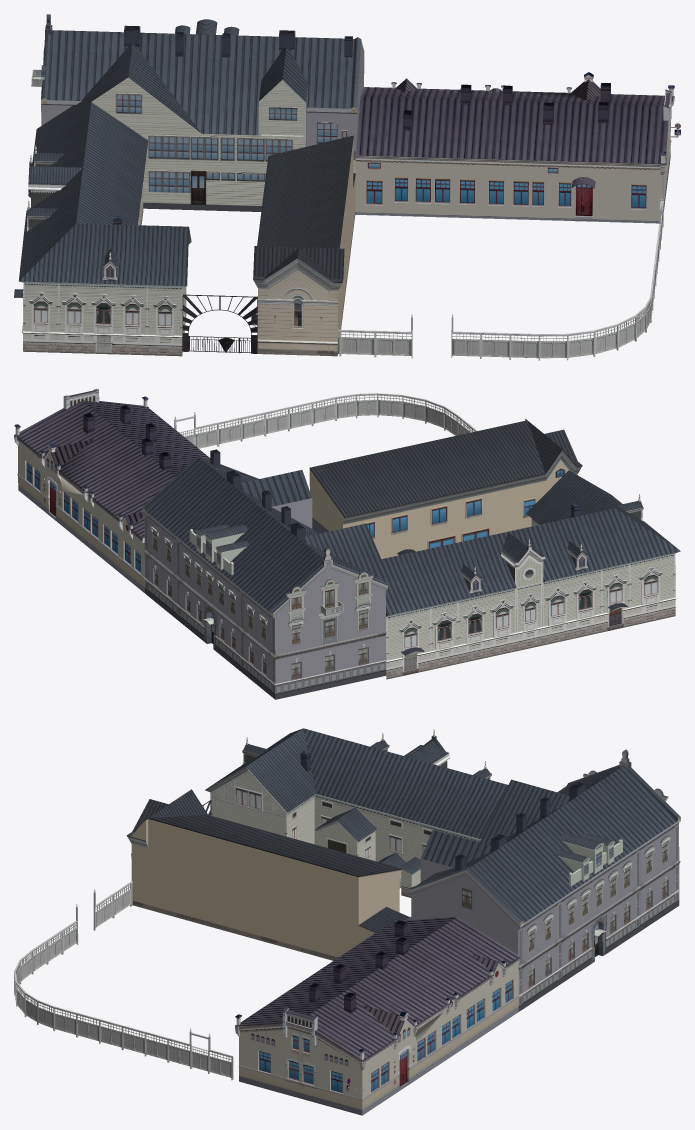
The picture shows the model from 3 angles, top to bottom: view 1: azimuth 30°, elevation 25°; view 2: azimuth 150°, elevation 25°; view 3: azimuth 270°, elevation 25°; orthographic projection. The views are drawn at different scales.
Parts seen in each view (by area): view 1: BLK01_BLD04, BLK01_BLD02, BLK01_BLD01, BLK01_BLD03; view 2: BLK01_BLD02, BLK01_BLD01, BLK01_BLD03, BLK01_BLD04; view 3: BLK01_BLD02, BLK01_BLD04, BLK01_BLD03, BLK01_BLD01.
Boxes of the visible parts, bbox=[...] form: BLK01_BLD04: bbox=[355, 72, 680, 223]; BLK01_BLD02: bbox=[31, 14, 364, 211]; BLK01_BLD01: bbox=[14, 44, 200, 356]; BLK01_BLD03: bbox=[182, 135, 663, 360]; BLK01_BLD02: bbox=[142, 449, 387, 699]; BLK01_BLD01: bbox=[305, 470, 680, 679]; BLK01_BLD03: bbox=[174, 393, 582, 558]; BLK01_BLD04: bbox=[14, 389, 210, 592]; BLK01_BLD02: bbox=[406, 749, 680, 1011]; BLK01_BLD04: bbox=[235, 917, 520, 1115]; BLK01_BLD03: bbox=[14, 789, 409, 1080]; BLK01_BLD01: bbox=[205, 728, 569, 897].
Size of the model in its own units: 7025 by 1525 by 6260.
